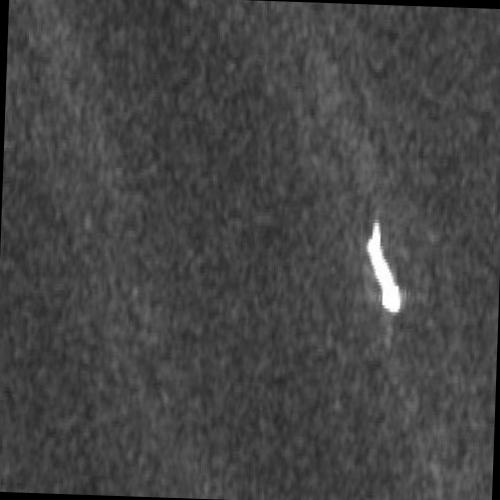ship: (368, 220, 402, 313)
